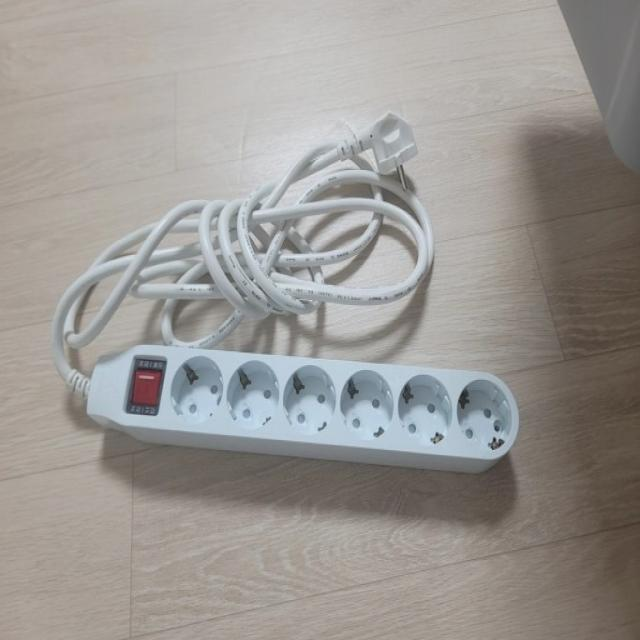typeb: (72, 328, 530, 487)
